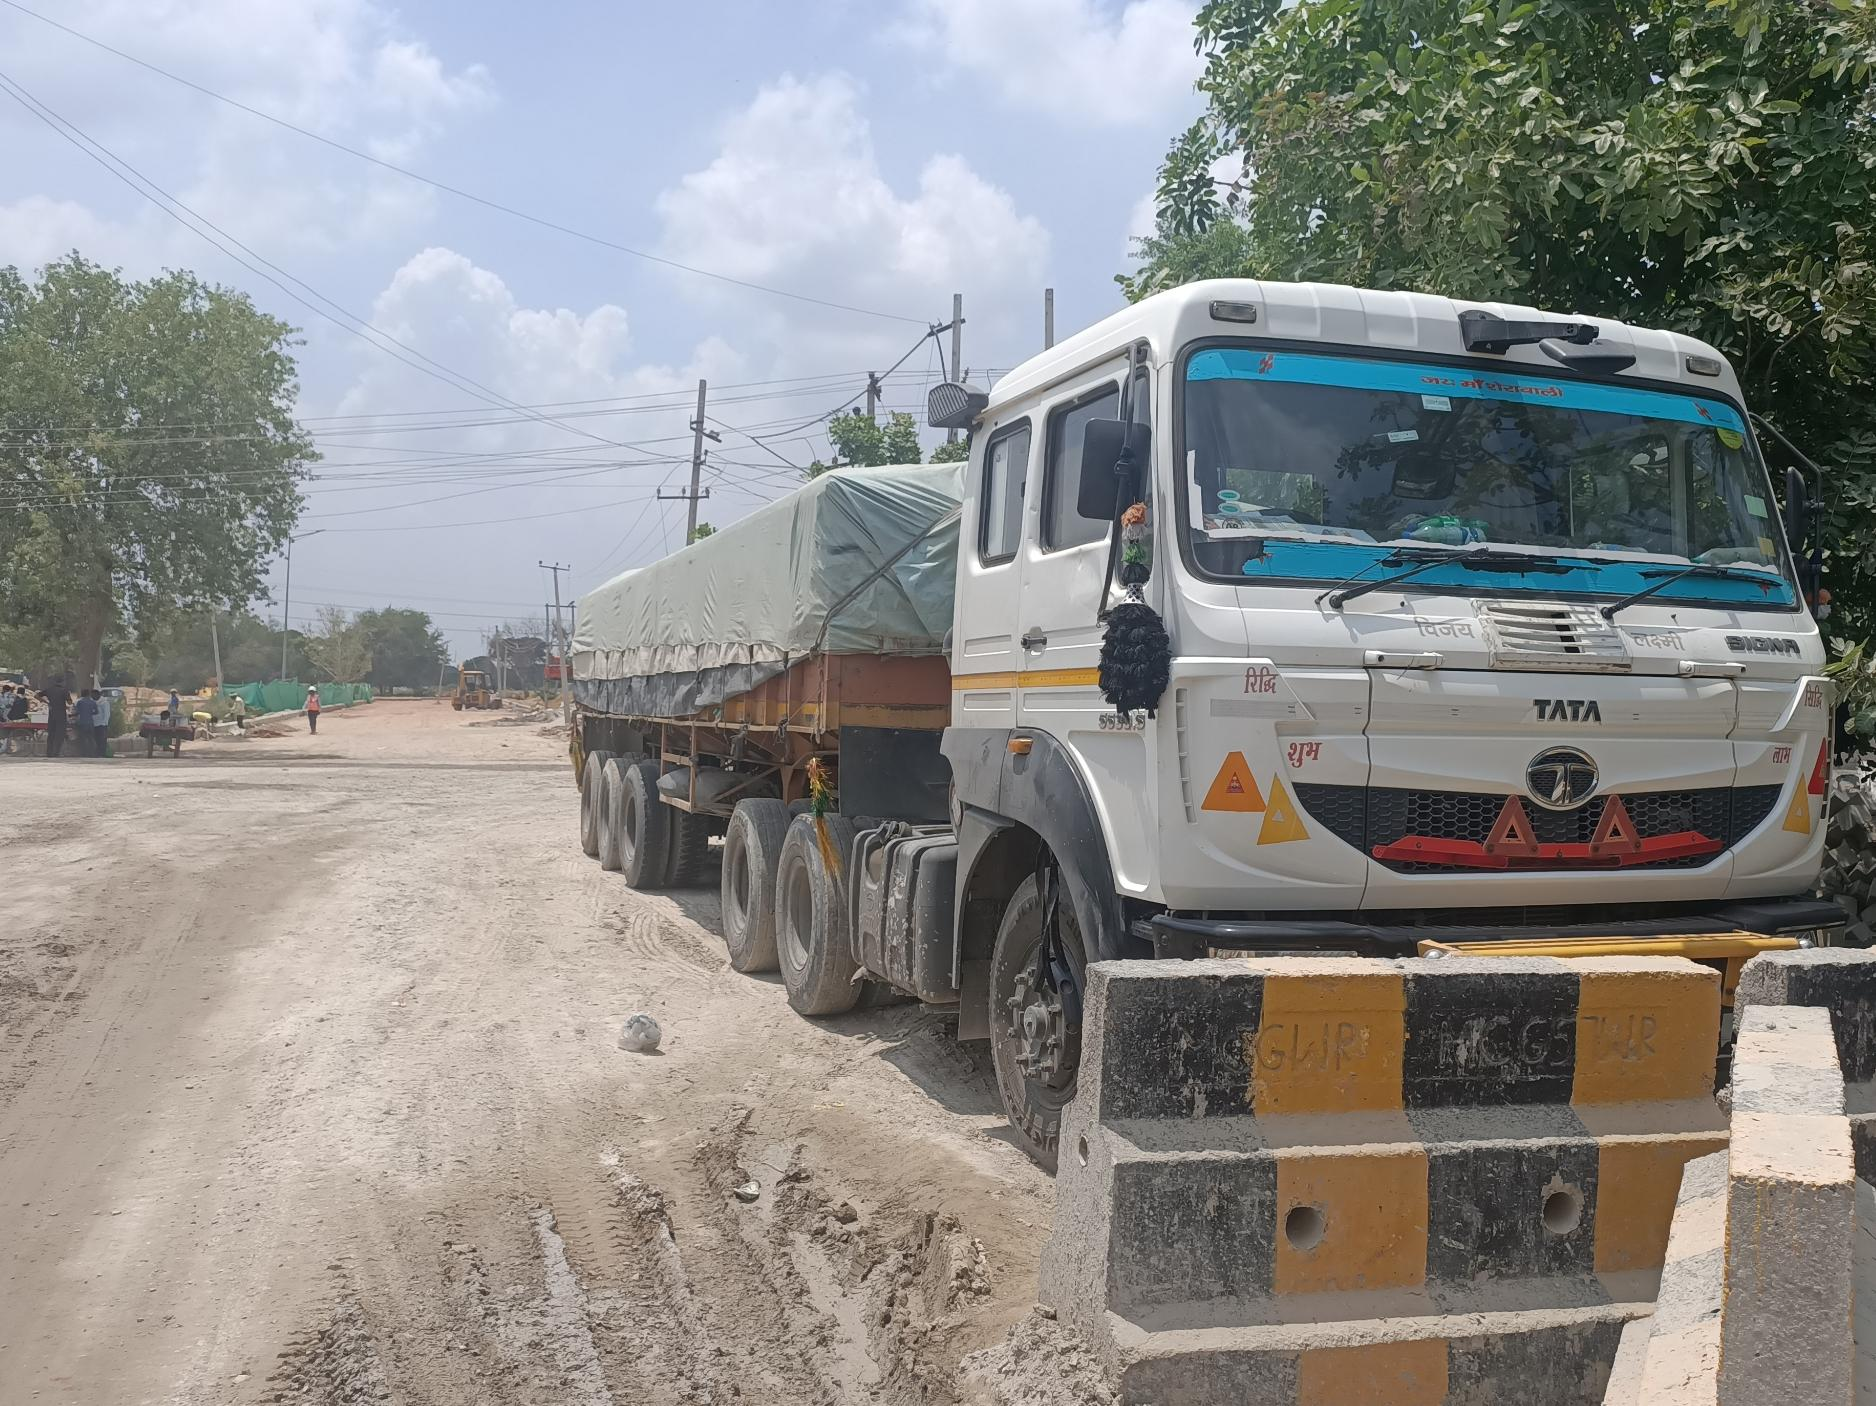FastTag: (1418, 391, 1456, 412)
not a FastTag: (1755, 533, 1783, 566), (1743, 493, 1774, 520), (1715, 425, 1746, 450), (1381, 427, 1421, 445), (1219, 492, 1244, 517)
